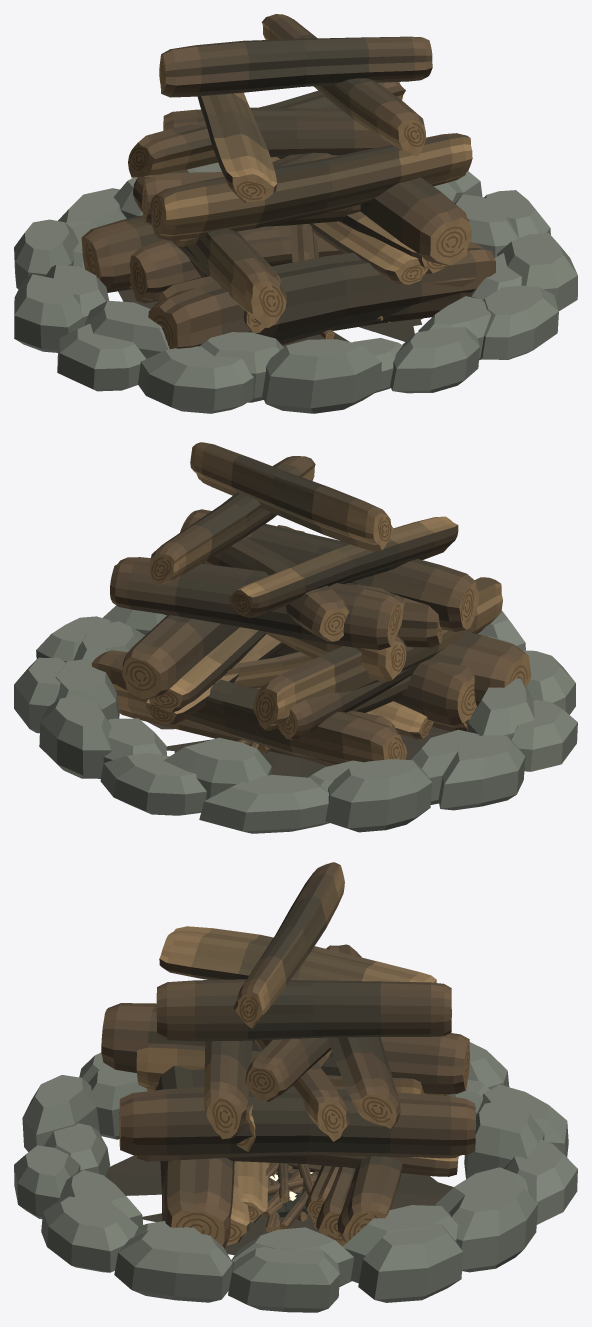
The model's file is fireplace-kit-v2.glb.
3 views of the same model, one above another, from view 1: azimuth 30°, elevation 25°; view 2: azimuth 150°, elevation 25°; view 3: azimuth 270°, elevation 25° (orthographic). The views are drawn at different scales.
Parts seen in each view (by area): view 1: Fireplace_Fuel_5, Fireplace_Fuel_4, Fireplace_Fuel_3, Fireplace_Fuel_2; view 2: Fireplace_Fuel_5, Fireplace_Fuel_4, Fireplace_Fuel_3, Fireplace_Fuel_2; view 3: Fireplace_Fuel_5, Fireplace_Fuel_4, Fireplace_Fuel_3, Fireplace_Fuel_2, Fireplace_Fuel_1.
Boxes of the visible parts, <box> form: Fireplace_Fuel_5: <box>14,14,577,413</box>; Fireplace_Fuel_4: <box>45,107,521,402</box>; Fireplace_Fuel_3: <box>129,172,428,345</box>; Fireplace_Fuel_2: <box>242,223,383,320</box>; Fireplace_Fuel_5: <box>14,442,577,833</box>; Fireplace_Fuel_4: <box>55,537,534,804</box>; Fireplace_Fuel_3: <box>145,632,467,766</box>; Fireplace_Fuel_2: <box>224,651,433,739</box>; Fireplace_Fuel_5: <box>14,862,577,1312</box>; Fireplace_Fuel_4: <box>44,1037,544,1286</box>; Fireplace_Fuel_3: <box>146,1049,458,1246</box>; Fireplace_Fuel_2: <box>237,1161,339,1231</box>; Fireplace_Fuel_1: <box>264,1162,320,1217</box>.
Bounding box in the file's own units: 0.9082 × 0.4578 × 0.8418.
